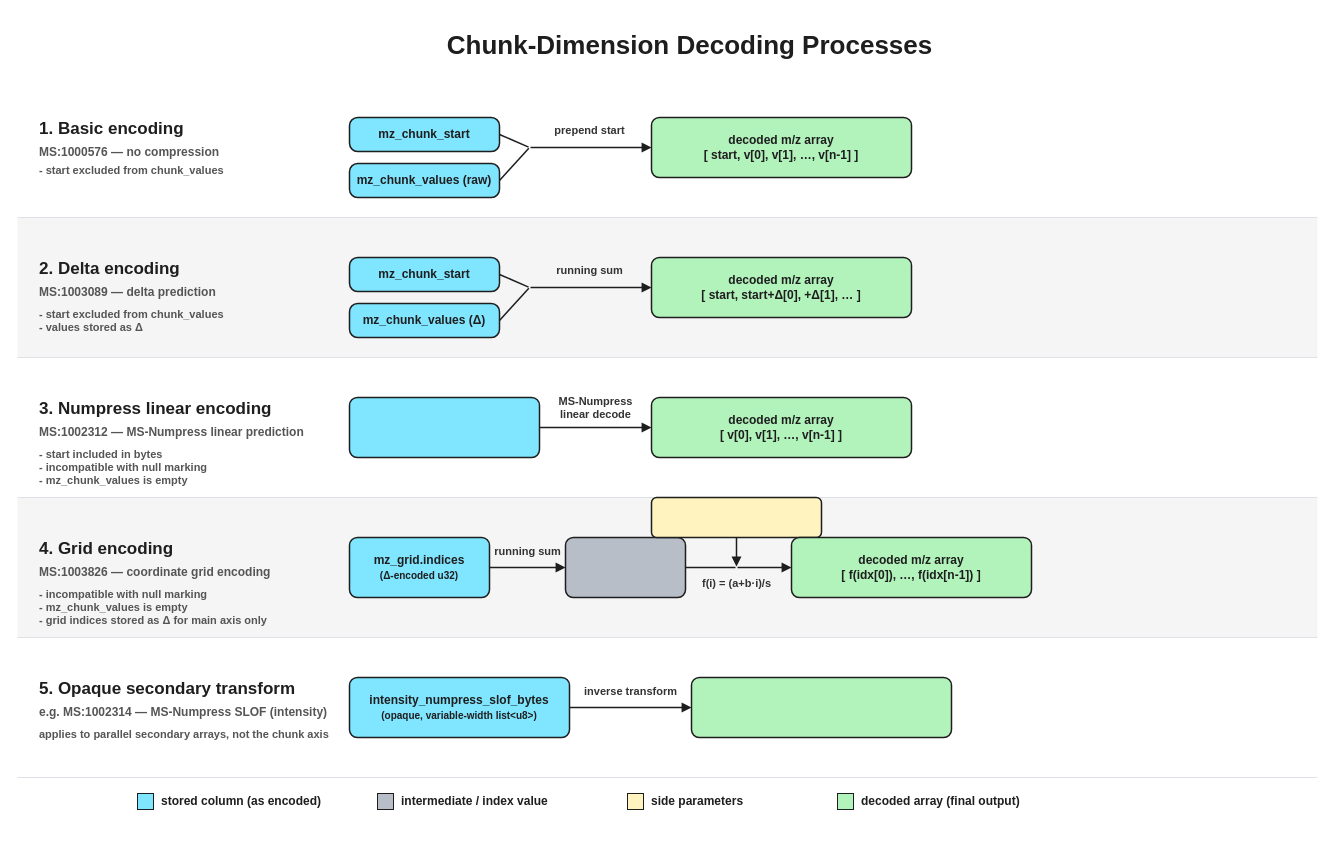
The diagram is 1336 pixels wide and 854 high, and some of its shapes have lost their labels. Here are the shapes that lost their labels. From the top down, the centre of each, then its label:
At pixel 444 427: "mz_numpress_linear_bytes (8B fixed-pt, 4B×2, 2B residuals…)".
At pixel 736 517: "mz_grid.grid_type & mz_grid.parameters (e.g. MS:1003824 linear)".
At pixel 625 567: "grid index (absolute)".
At pixel 821 707: "decoded intensity array [ v[0], v[1], …, v[n-1] ]".
